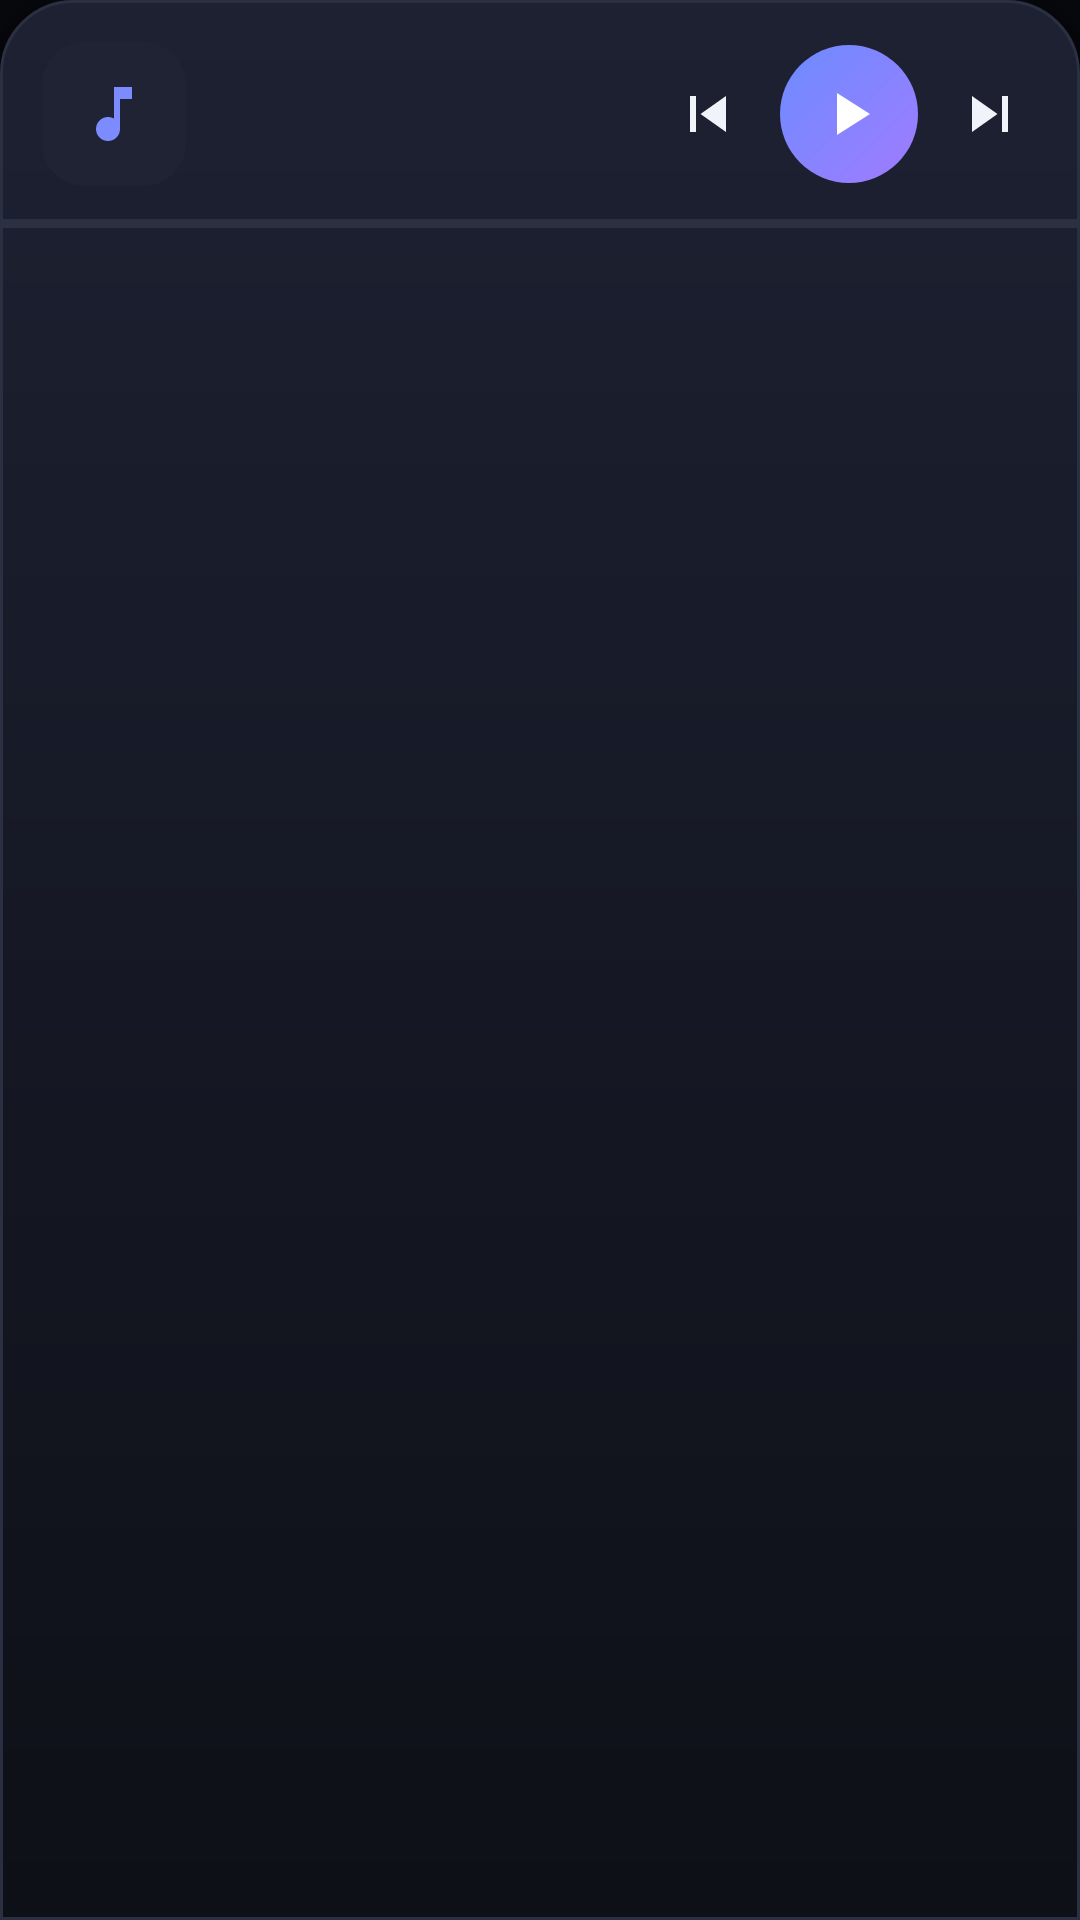

Where to tap for icons on this 1080px×1920px app screen, as [x,y]:
music: [114,114]
Oynat/Duraklat: [849,114]
Sonraki: [990,114]
Önceki: [708,114]
